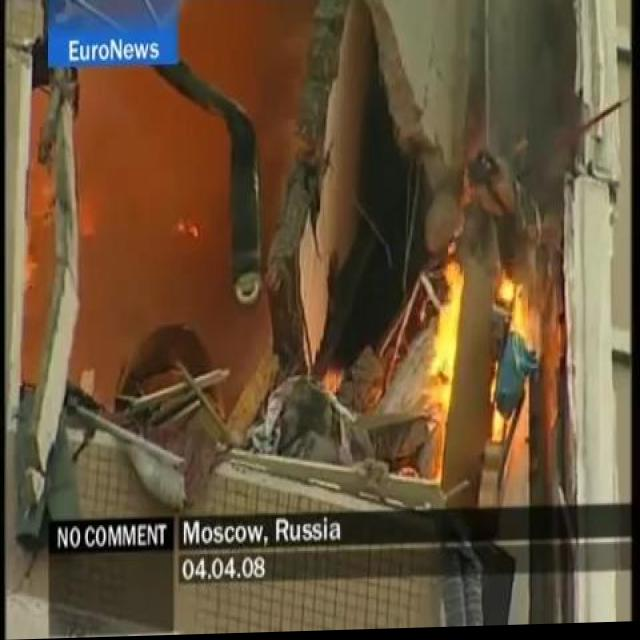fire: (434, 260, 530, 450), (318, 368, 342, 394)
